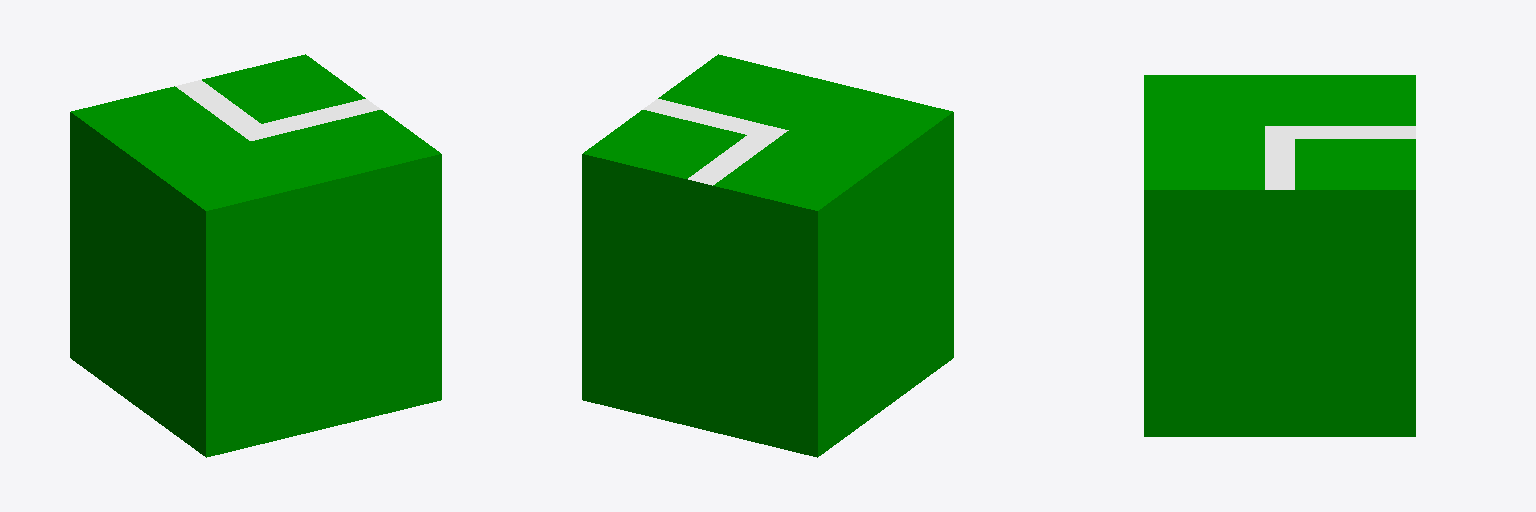
File: NineTurn.obj
The picture shows the model from 3 angles: view 1: azimuth 30°, elevation 25°; view 2: azimuth 150°, elevation 25°; view 3: azimuth 270°, elevation 25°; orthographic projection.
Parts seen in each view (by area): view 1: Cube; view 2: Cube; view 3: Cube.
Part boxes in pixels (x1,y1,x2,y2): Cube: (70, 54, 441, 457); Cube: (582, 54, 953, 457); Cube: (1144, 75, 1415, 436).
Bounding box in the file's own units: 2 × 2 × 2.